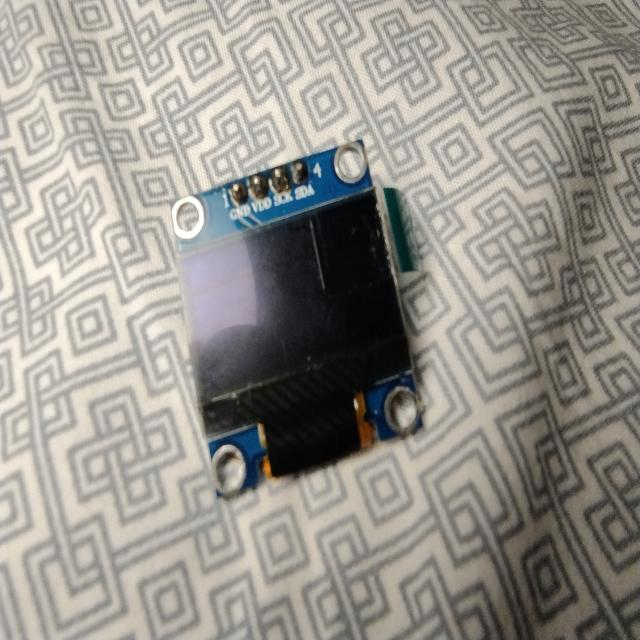oled: (172, 130, 442, 503)
